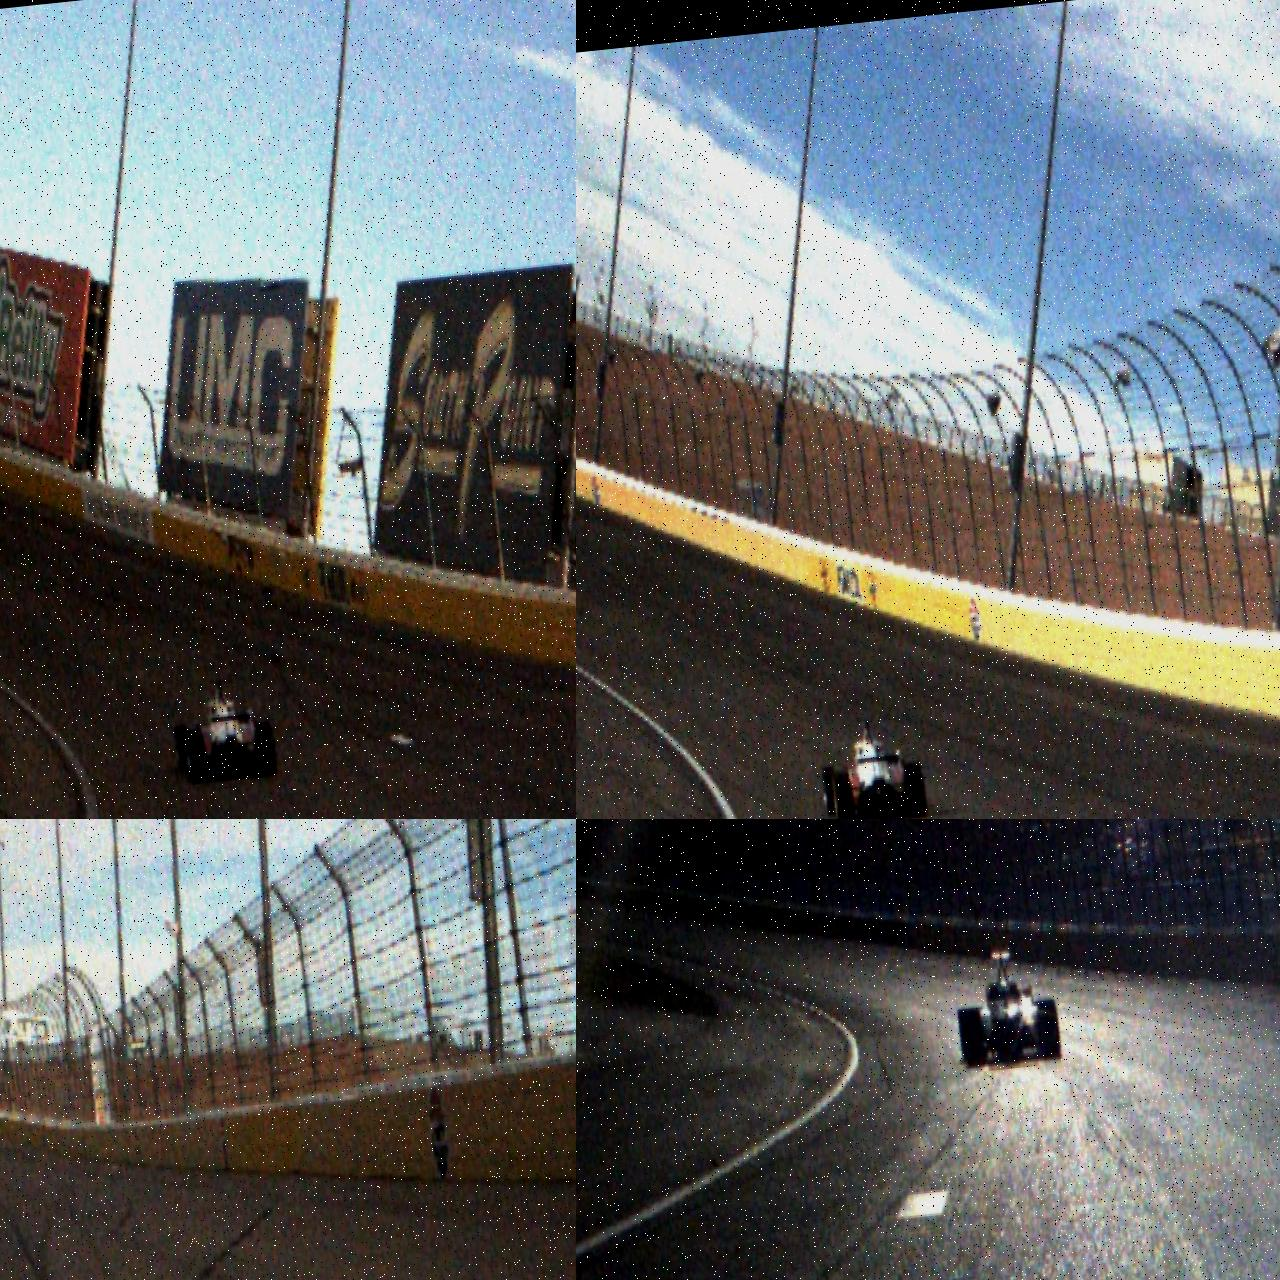AV: (952, 946, 1062, 1069), (168, 674, 279, 785), (815, 712, 930, 819)
Wheel: (958, 1006, 987, 1069), (1035, 998, 1062, 1061), (184, 729, 207, 784), (256, 721, 279, 776), (906, 761, 928, 818), (831, 770, 856, 819), (821, 764, 839, 817), (172, 722, 191, 772)
